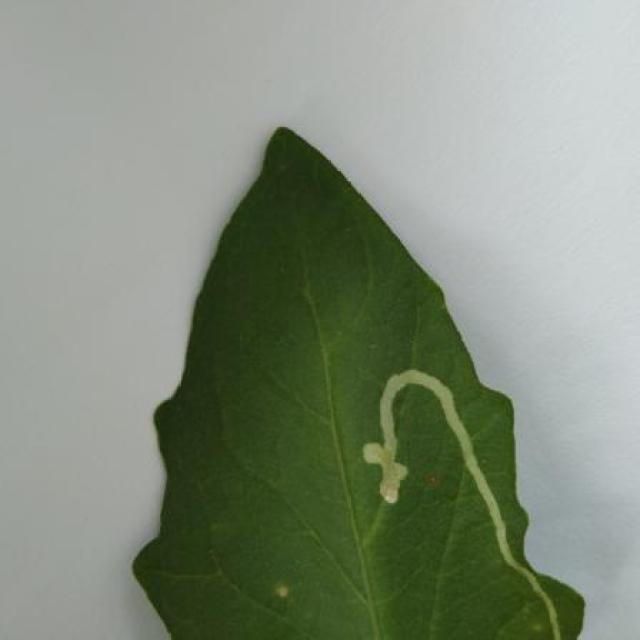Leaf Miner: (119, 123, 592, 640)
